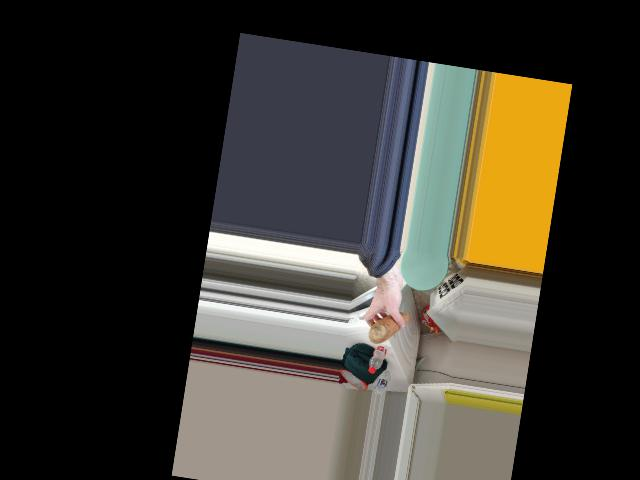sweet_potato: (364, 307, 413, 347)
